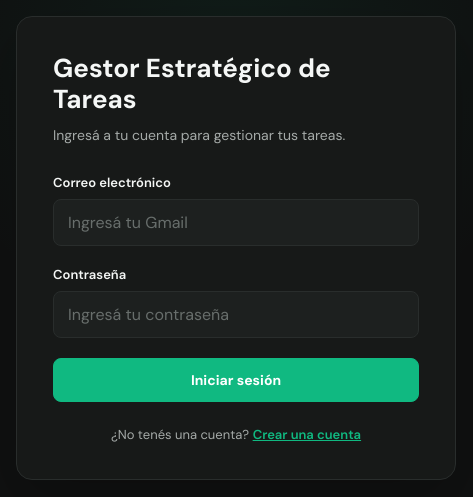
Login Component › 5. Estado de carga: deshabilita inputs y muestra "Iniciando sesión..." mientras el login está pendiente
Type "user@example.com" into the field labelled "Correo electrónico".
click(236, 223); type("user@example.com")  # box x1=53 y1=199 x2=419 y2=246
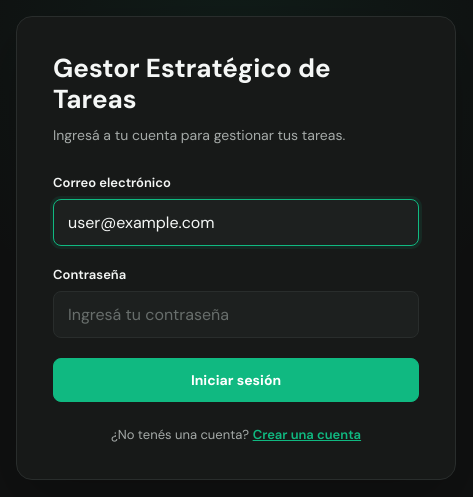
Type "password123" into the password field labelled "Contraseña".
click(236, 315); type("password123")  # box x1=53 y1=291 x2=419 y2=338
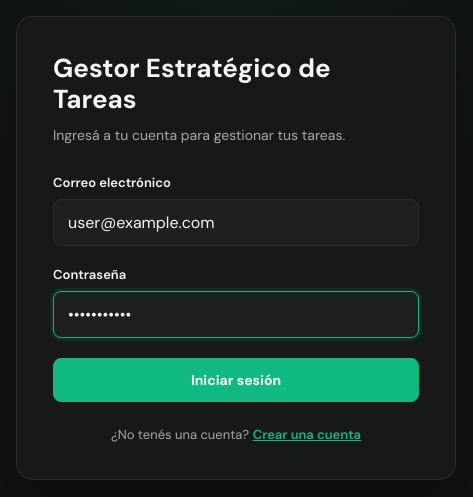
Click the button "Iniciar sesión".
click(236, 380)  # box x1=53 y1=358 x2=419 y2=402
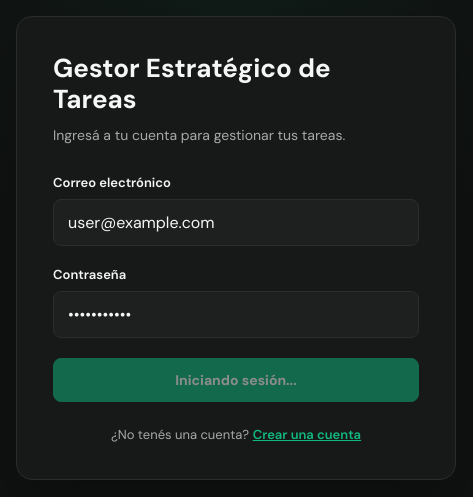
expect the field labelled "Correo electrónico" is disabled: met, box x1=53 y1=199 x2=419 y2=246
expect the button "Iniciando sesión..." is disabled: met, box x1=53 y1=358 x2=419 y2=402
